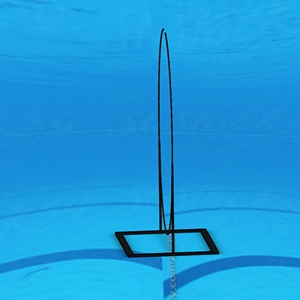circle: (113, 27, 225, 262)
